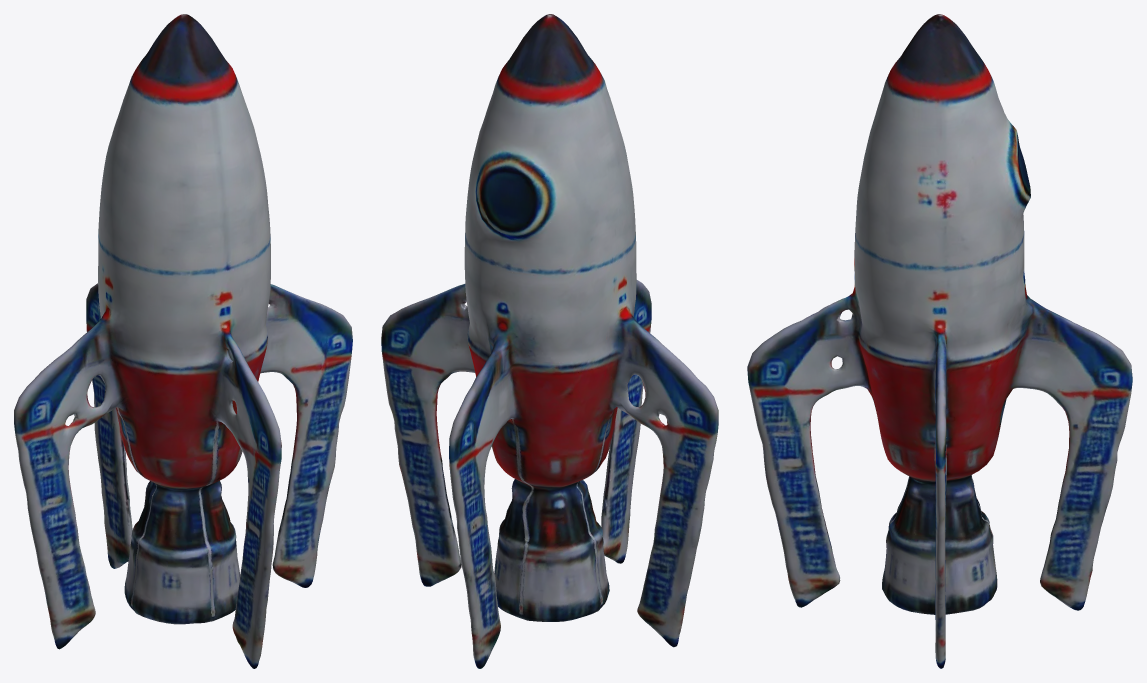
3 views of the same model, side by side, from view 1: azimuth 30°, elevation 25°; view 2: azimuth 150°, elevation 25°; view 3: azimuth 270°, elevation 25° (orthographic).
Visible parts, largest first — view 1: mesh_base_material_0; view 2: mesh_base_material_0; view 3: mesh_base_material_0.
Part boxes in pixels (x1,y1,x2,y2): mesh_base_material_0: (14, 14, 352, 668); mesh_base_material_0: (381, 14, 718, 668); mesh_base_material_0: (747, 14, 1132, 668).
Bounding box in the file's own units: 0.5833 × 0.9971 × 0.5847.
1 material, 1 textured.
